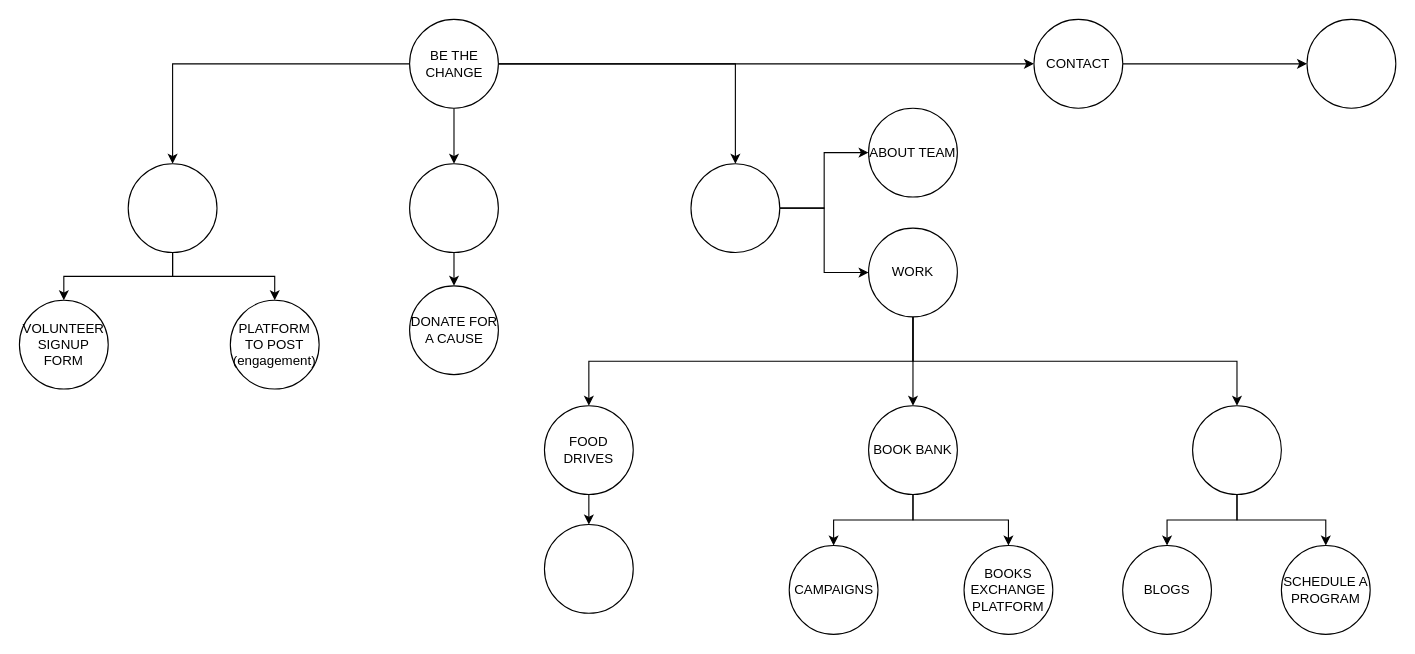
Image size: 1415x654. Some labels were removed from this diagram. Each missing label, with the box of its shape:
ABOUT US: (690, 163, 780, 253)
AWARENESS PROGRAMS: (1191, 405, 1281, 495)
DONATE: (408, 163, 498, 253)
GET INNVOLVED: (127, 163, 217, 253)
SUGGESTION BOX: (1306, 18, 1396, 108)
VIDEOS, BLOGS: (543, 523, 633, 613)
